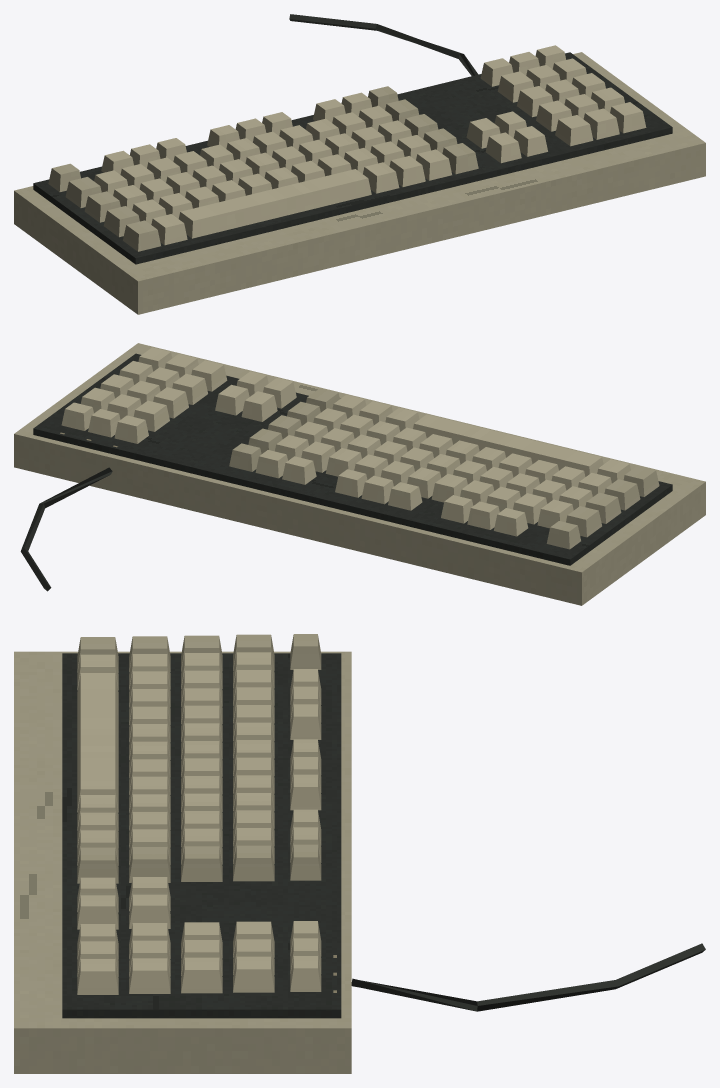
File: keyboard.glb
3 views of the same model, one above another, from view 1: azimuth 30°, elevation 25°; view 2: azimuth 150°, elevation 25°; view 3: azimuth 270°, elevation 25° (orthographic). The views are drawn at different scales.
Parts seen in each view (by area): view 1: I_pc_KeyboardLowerCase, I_pc_KeyboardDarkWell, I_pc_IndividualKey.055, Detail_KeyboardCord, I_pc_IndividualKey.068, I_pc_IndividualKey.049, I_pc_IndividualKey.072, I_pc_IndividualKey.051, I_pc_IndividualKey.050, I_pc_IndividualKey.054, I_pc_IndividualKey.070, I_pc_IndividualKey.052 (+66 smaller); view 2: I_pc_KeyboardLowerCase, I_pc_KeyboardDarkWell, I_pc_IndividualKey.055, Detail_KeyboardCord, I_pc_IndividualKey.071, I_pc_IndividualKey.073, I_pc_IndividualKey.004, I_pc_IndividualKey.059, I_pc_IndividualKey.010, I_pc_IndividualKey.056, I_pc_IndividualKey, I_pc_IndividualKey.007 (+66 smaller); view 3: I_pc_KeyboardDarkWell, I_pc_KeyboardLowerCase, I_pc_IndividualKey.055, Detail_KeyboardCord, I_pc_IndividualKey.022, I_pc_IndividualKey.064, I_pc_IndividualKey.061, I_pc_IndividualKey.070, I_pc_IndividualKey.035, I_pc_IndividualKey.067, I_pc_IndividualKey.054, I_pc_IndividualKey.048 (+58 smaller).
Part boxes in pixels (<box>): I_pc_KeyboardLowerCase: <box>14,52,705,314</box>; I_pc_KeyboardDarkWell: <box>33,52,672,264</box>; I_pc_IndividualKey.055: <box>178,169,371,238</box>; Detail_KeyboardCord: <box>289,14,478,75</box>; I_pc_IndividualKey.068: <box>555,115,593,146</box>; I_pc_IndividualKey.049: <box>123,220,160,251</box>; I_pc_IndividualKey.072: <box>485,132,521,163</box>; I_pc_IndividualKey.051: <box>363,162,399,193</box>; I_pc_IndividualKey.050: <box>151,214,187,245</box>; I_pc_IndividualKey.054: <box>442,143,478,174</box>; I_pc_IndividualKey.070: <box>610,102,646,133</box>; I_pc_IndividualKey.052: <box>389,156,425,186</box>; I_pc_KeyboardLowerCase: <box>14,343,705,605</box>; I_pc_KeyboardDarkWell: <box>33,353,672,565</box>; I_pc_IndividualKey.055: <box>413,414,603,476</box>; Detail_KeyboardCord: <box>20,467,112,591</box>; I_pc_IndividualKey.071: <box>241,391,277,421</box>; I_pc_IndividualKey.073: <box>215,384,249,415</box>; I_pc_IndividualKey.004: <box>388,482,422,510</box>; I_pc_IndividualKey.059: <box>133,400,169,431</box>; I_pc_IndividualKey.010: <box>566,506,601,537</box>; I_pc_IndividualKey.056: <box>114,415,148,443</box>; I_pc_IndividualKey: <box>546,521,580,549</box>; I_pc_IndividualKey.007: <box>282,456,316,484</box>; I_pc_KeyboardDarkWell: <box>62,653,341,1018</box>; I_pc_KeyboardLowerCase: <box>14,651,351,1073</box>; I_pc_IndividualKey.055: <box>77,673,118,812</box>; Detail_KeyboardCord: <box>351,943,705,1011</box>; I_pc_IndividualKey.022: <box>233,845,274,881</box>; I_pc_IndividualKey.064: <box>181,957,222,993</box>; I_pc_IndividualKey.061: <box>233,956,274,992</box>; I_pc_IndividualKey.070: <box>77,959,118,994</box>; I_pc_IndividualKey.035: <box>181,846,222,881</box>; I_pc_IndividualKey.067: <box>129,958,170,993</box>; I_pc_IndividualKey.054: <box>77,847,118,883</box>; I_pc_IndividualKey.048: <box>129,847,170,882</box>.
Size of the model in its own units: 0.515 by 0.0509 by 0.3996.
4 materials, 4 textured.
